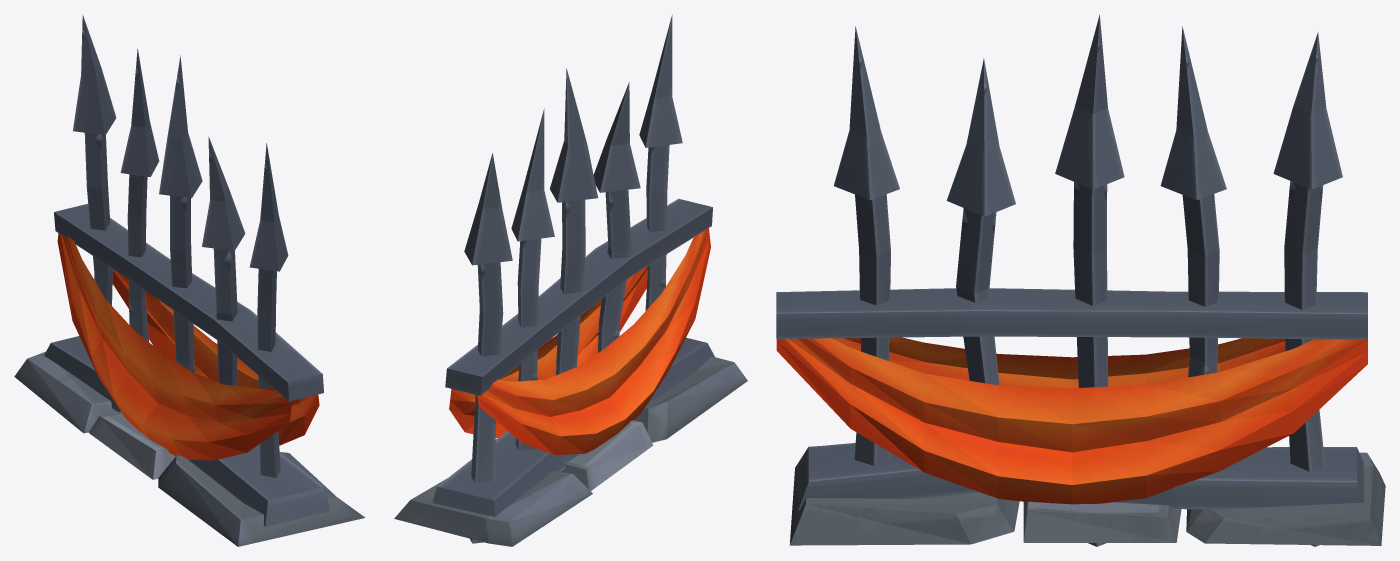
File: Wall1B-005_40_12_6939.fbx
3 renders of one model, left to right at view 1: azimuth 30°, elevation 25°; view 2: azimuth 150°, elevation 25°; view 3: azimuth 270°, elevation 25°, orthographic. The views are drawn at different scales.
Visible parts, largest first — view 1: 1B_Wall1, Cloth2, Cloth1; view 2: 1B_Wall1, Cloth2, Cloth1; view 3: 1B_Wall1, Cloth1, Cloth2.
Part boxes in pixels (<box>): 1B_Wall1: <box>14,15,365,546</box>; Cloth2: <box>57,233,292,460</box>; Cloth1: <box>112,269,319,445</box>; 1B_Wall1: <box>394,14,747,546</box>; Cloth2: <box>477,228,710,454</box>; Cloth1: <box>449,254,666,437</box>; 1B_Wall1: <box>776,14,1385,546</box>; Cloth1: <box>776,338,1367,504</box>; Cloth2: <box>832,337,1285,388</box>.
Bounding box in the file's own units: 0.9311 × 2.93 × 3.09.
